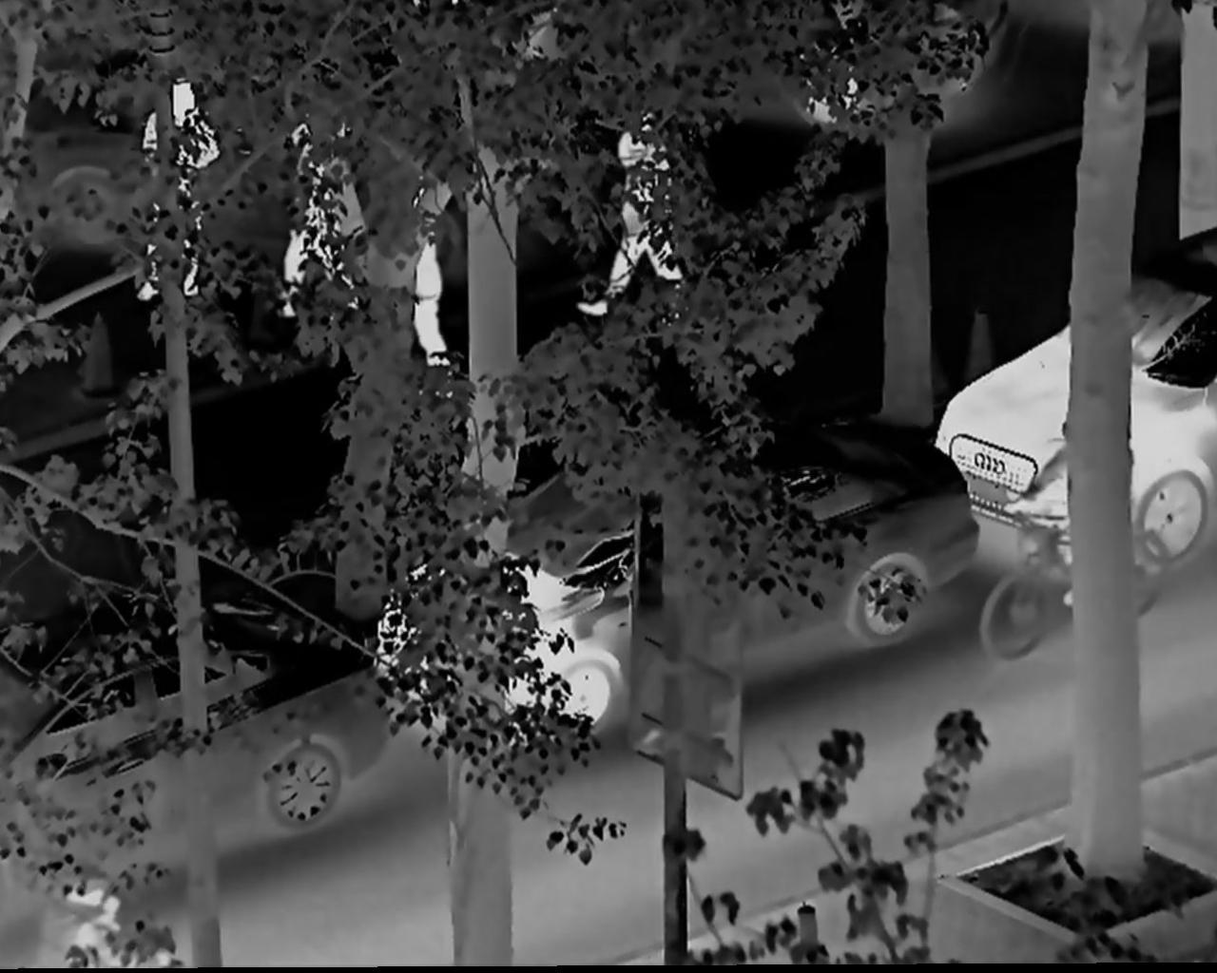person: (576, 112, 688, 328), (140, 75, 216, 309), (282, 120, 362, 322), (372, 196, 452, 382)
